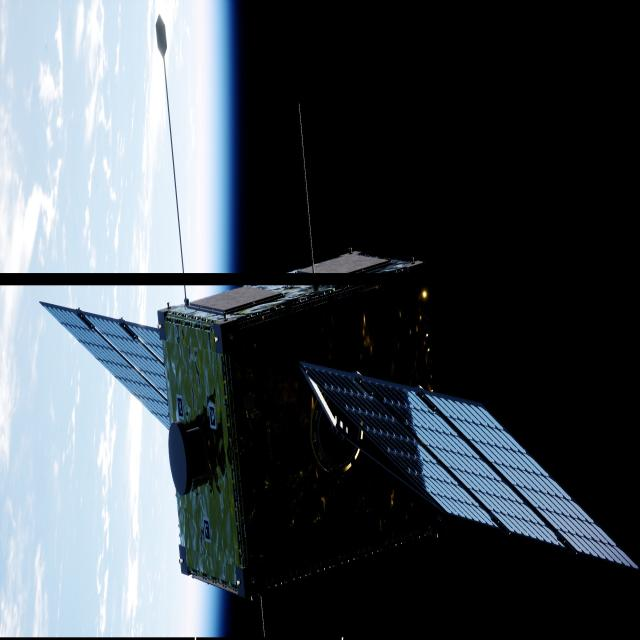medium_debris: (45, 262, 640, 602)
